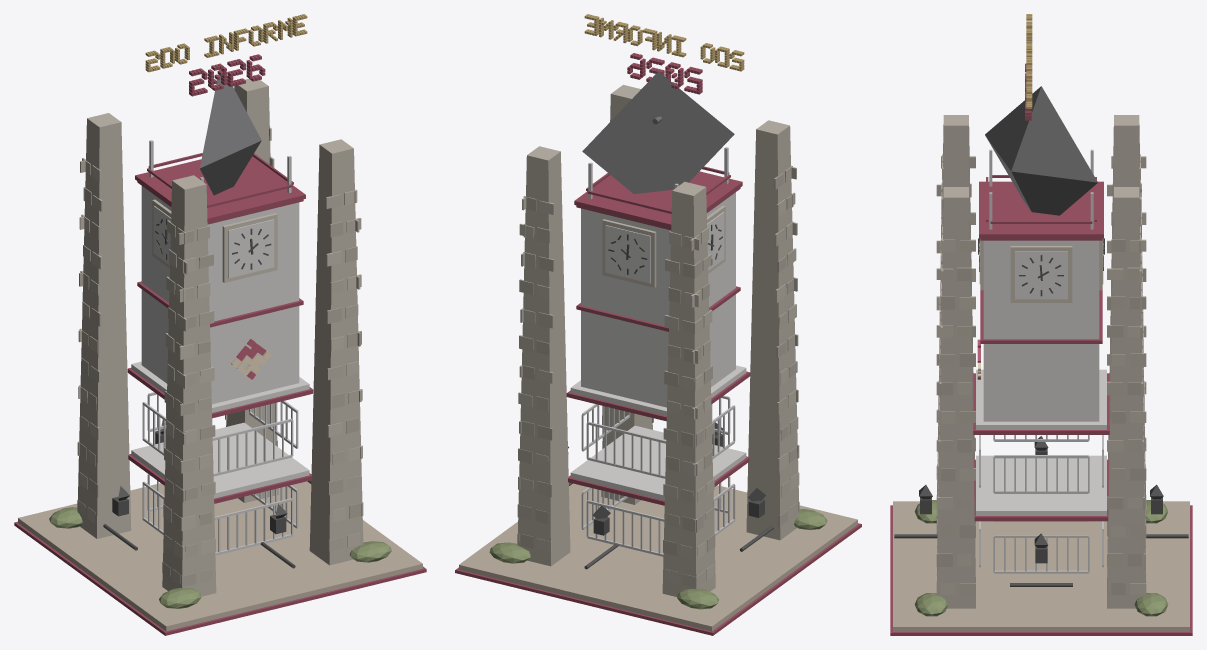
File: reloj_monumento_ar_v2.glb
The picture shows the model from 3 angles, left to right: view 1: azimuth 30°, elevation 25°; view 2: azimuth 150°, elevation 25°; view 3: azimuth 270°, elevation 25°; orthographic projection.
Visible parts, largest first — view 1: reloj_monumento; view 2: reloj_monumento; view 3: reloj_monumento.
Boxes of the visible parts, x1=… form: reloj_monumento: x1=14, y1=14, x2=426, y2=635; reloj_monumento: x1=455, y1=14, x2=861, y2=635; reloj_monumento: x1=890, y1=14, x2=1192, y2=635.
Bounding box in the file's own units: 1.19 × 2.25 × 1.19.
